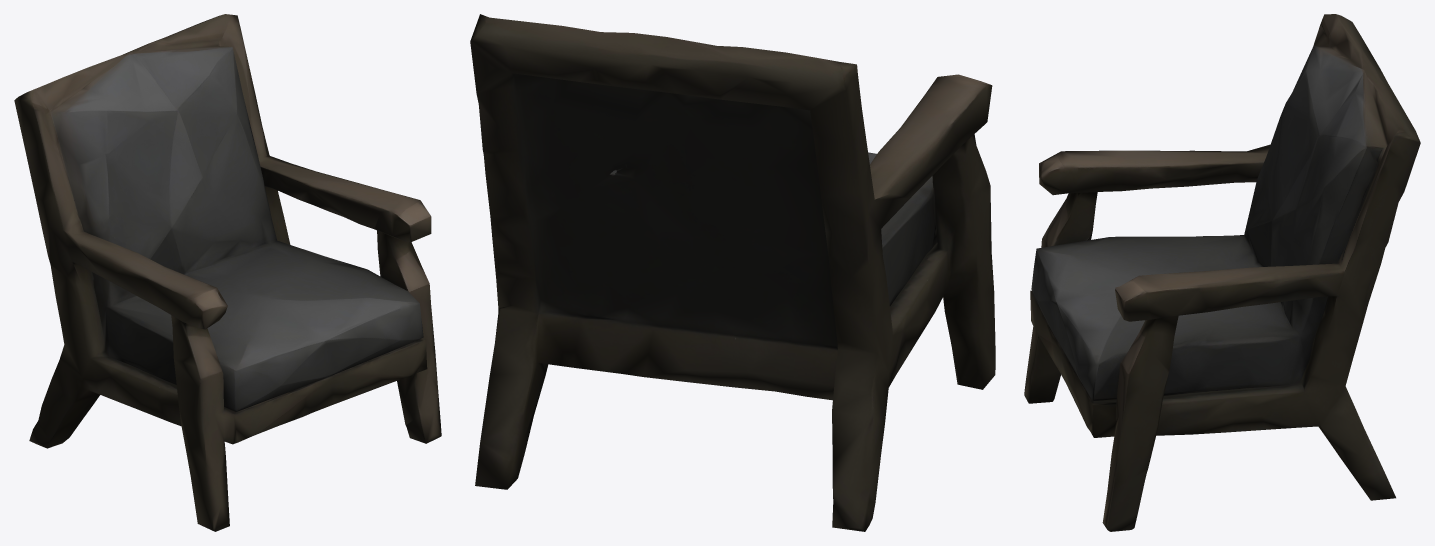
The model's file is low-poly+armchair+3d+model.glb.
3 views of the same model, side by side, from view 1: azimuth 30°, elevation 25°; view 2: azimuth 150°, elevation 25°; view 3: azimuth 270°, elevation 25° (orthographic). The views are drawn at different scales.
Visible parts, largest first — view 1: tripo_node_66ebf508-a05c-4334-a945-ab3fe92daf66; view 2: tripo_node_66ebf508-a05c-4334-a945-ab3fe92daf66; view 3: tripo_node_66ebf508-a05c-4334-a945-ab3fe92daf66.
Boxes of the visible parts, box(x1,y1,x2,y2) form: tripo_node_66ebf508-a05c-4334-a945-ab3fe92daf66: box(14, 14, 441, 531); tripo_node_66ebf508-a05c-4334-a945-ab3fe92daf66: box(470, 14, 995, 531); tripo_node_66ebf508-a05c-4334-a945-ab3fe92daf66: box(1024, 14, 1420, 531).
Size of the model in its own units: 0.9501 by 1 by 0.9843.
1 material, 1 textured.
